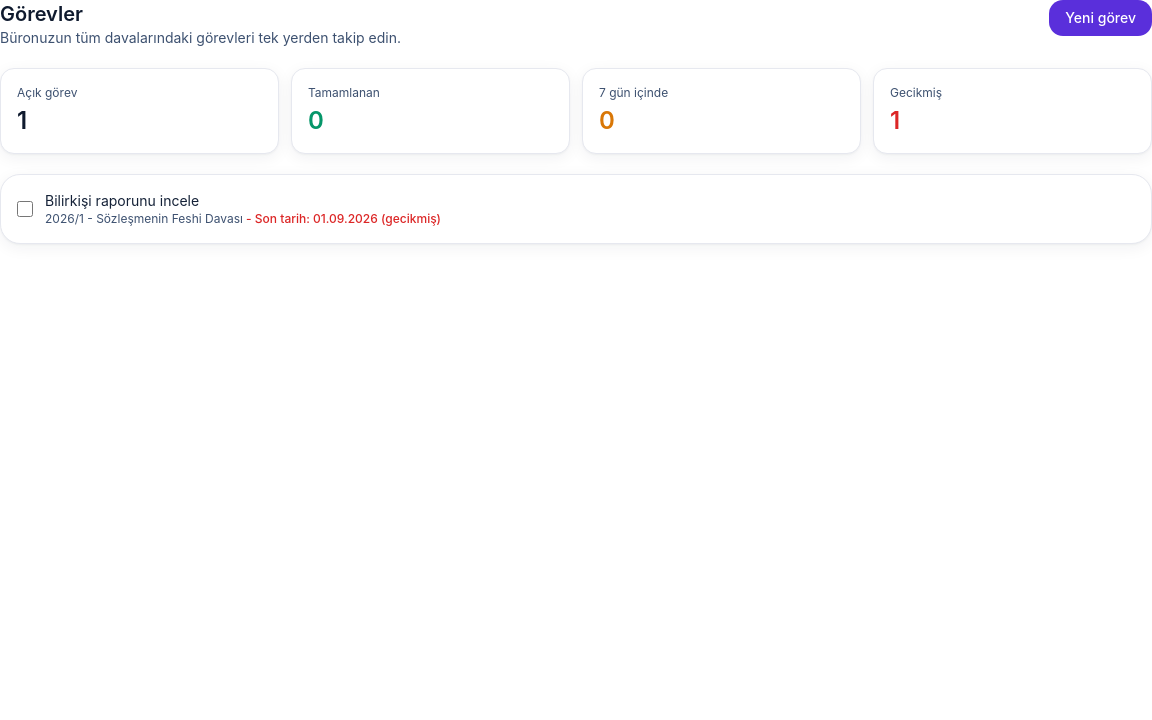
Scenario: TasksView › Yeni görev › shows the button with tasks present and opens the modal, loading cases and users
The width and height of the screenshot is (1152, 720).
Click the button "Yeni görev" at (1101, 18), box [1049,0,1151,36]
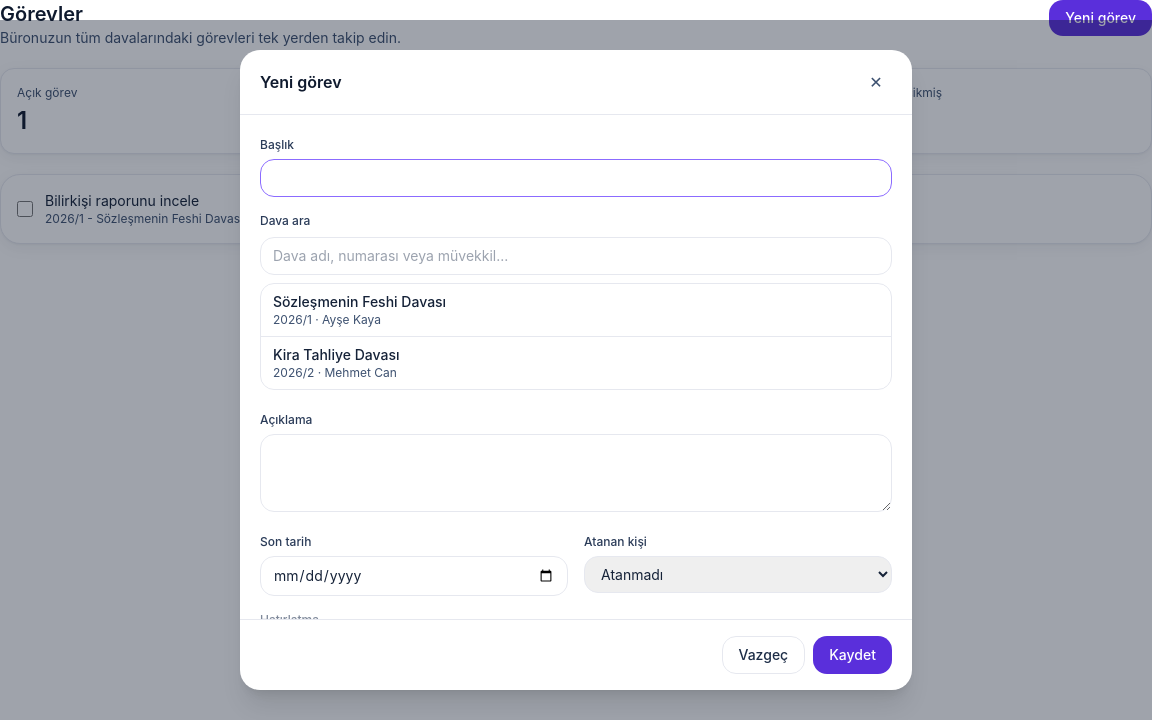
expect the text "Kira Tahliye Davası" is shown: met, box [273,345,400,365]
